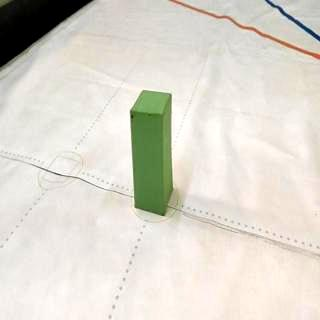greenbox: (130, 88, 174, 216)
